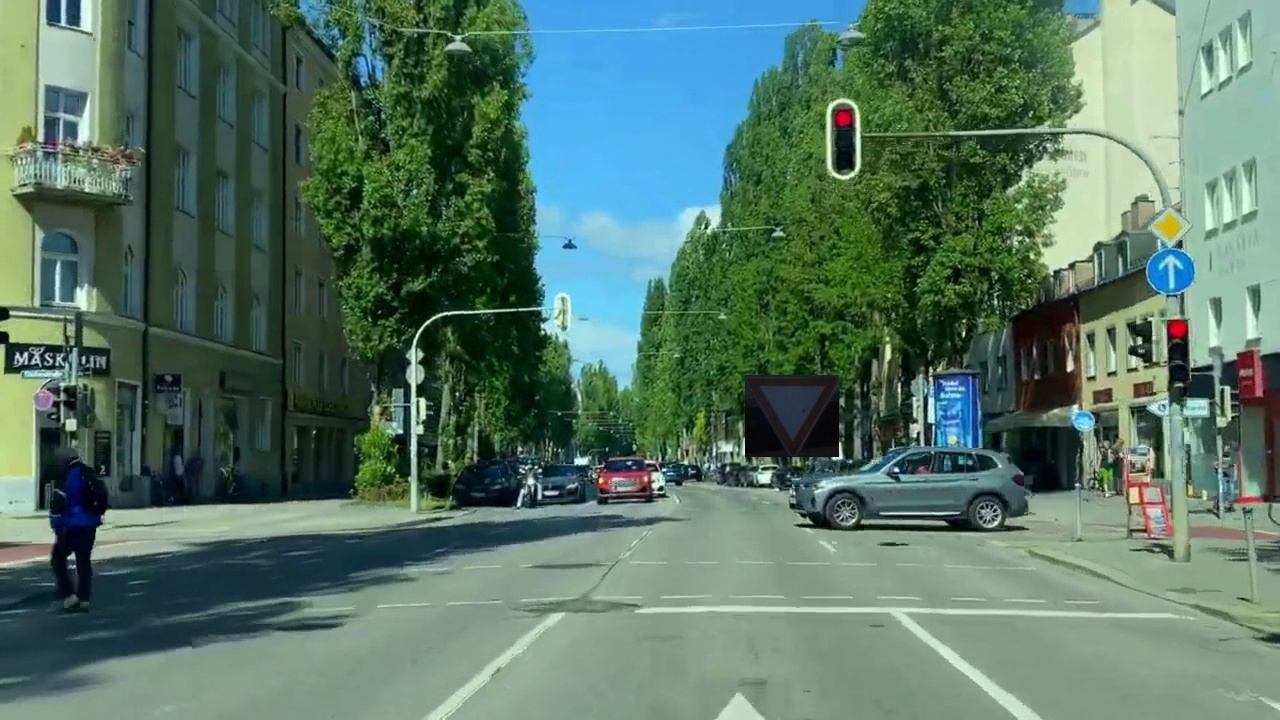Yield: (745, 375, 839, 457)
